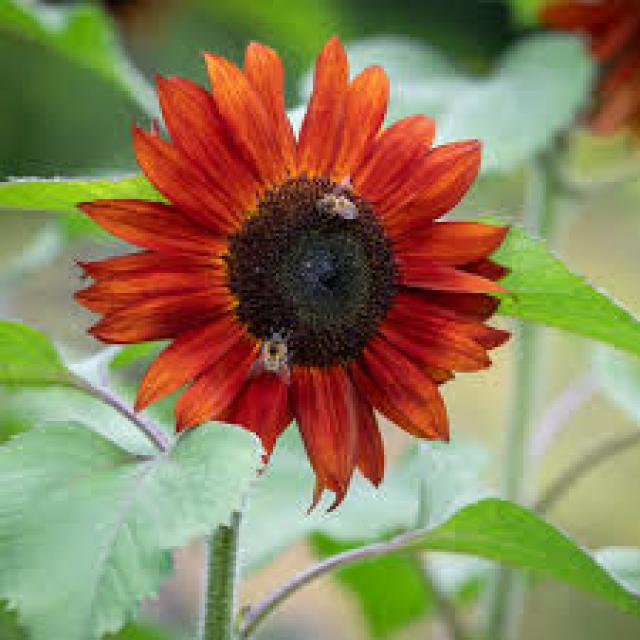sunflower: (63, 30, 526, 528)
